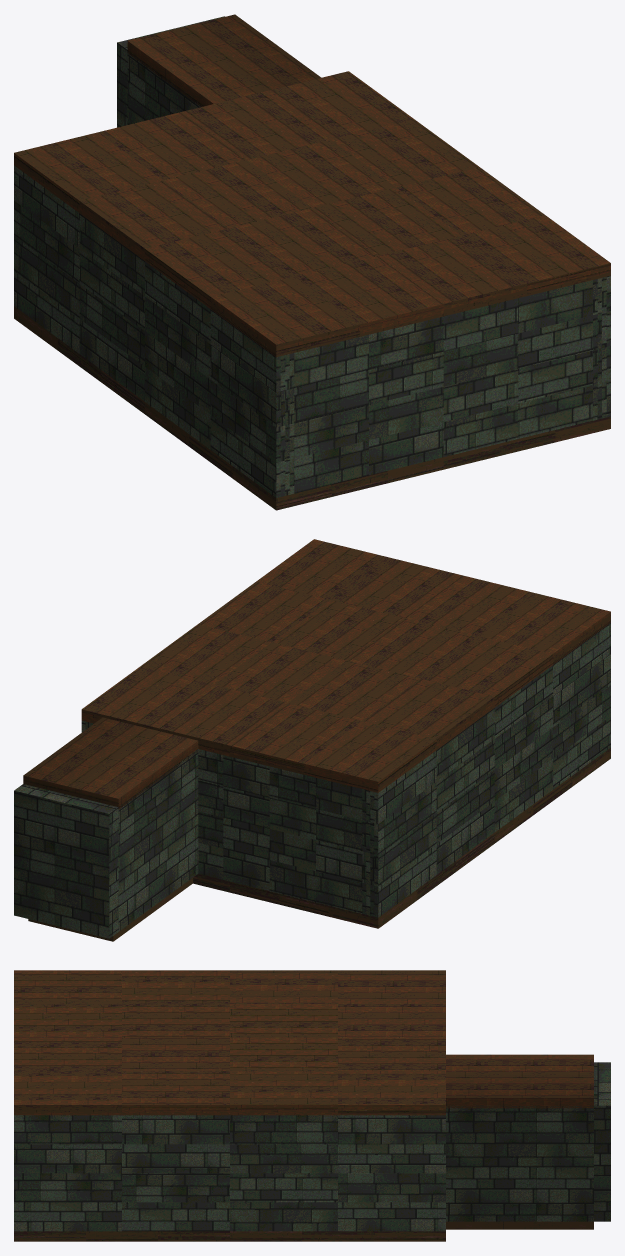
Rendered from cabaret.glb.
The picture shows the model from 3 angles, top to bottom: view 1: azimuth 30°, elevation 25°; view 2: azimuth 150°, elevation 25°; view 3: azimuth 270°, elevation 25°; orthographic projection. The views are drawn at different scales.
Parts seen in each view (by area): view 1: Ceiling, Wall_Front, Wall_Left, Corridor_Ceiling, Floor_Planks, Corridor_Wall_L, Wall_Right, Corridor_End; view 2: Ceiling, Wall_Left, Wall_Back_L, Corridor_End, Corridor_Wall_L, Corridor_Ceiling, Floor_Planks, Corridor_Floor; view 3: Ceiling, Wall_Right, Corridor_Wall_R, Corridor_Ceiling, Floor_Planks, Corridor_End, Corridor_Floor.
Part boxes in pixels (x1=…): Ceiling: x1=14, y1=71, x2=610, y2=357; Wall_Front: x1=294, y1=280, x2=592, y2=493; Wall_Left: x1=14, y1=165, x2=294, y2=497; Corridor_Ceiling: x1=127, y1=14, x2=321, y2=106; Floor_Planks: x1=14, y1=306, x2=610, y2=510; Corridor_Wall_L: x1=127, y1=53, x2=200, y2=124; Wall_Right: x1=593, y1=275, x2=610, y2=420; Corridor_End: x1=117, y1=16, x2=224, y2=127; Ceiling: x1=81, y1=539, x2=610, y2=792; Wall_Left: x1=362, y1=623, x2=610, y2=917; Wall_Back_L: x1=198, y1=749, x2=362, y2=913; Corridor_End: x1=14, y1=784, x2=118, y2=938; Corridor_Wall_L: x1=118, y1=749, x2=198, y2=931; Corridor_Ceiling: x1=23, y1=717, x2=198, y2=809; Floor_Planks: x1=193, y1=748, x2=610, y2=928; Corridor_Floor: x1=28, y1=878, x2=192, y2=941; Ceiling: x1=14, y1=970, x2=445, y2=1115; Wall_Right: x1=14, y1=1115, x2=445, y2=1231; Corridor_Wall_R: x1=446, y1=1105, x2=593, y2=1221; Corridor_Ceiling: x1=446, y1=1054, x2=593, y2=1108; Floor_Planks: x1=14, y1=1231, x2=445, y2=1241; Corridor_End: x1=594, y1=1062, x2=610, y2=1221; Corridor_Floor: x1=446, y1=1221, x2=593, y2=1229.
Size of what is drawn, in the model's own units: 5.6 by 2.65 by 10.5.
Materials: 17 (17 with a texture image).
